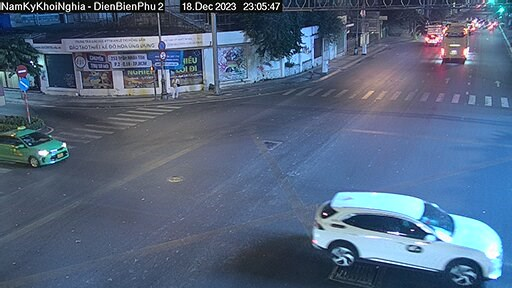bus: (437, 23, 477, 63)
car: (314, 190, 504, 282), (4, 121, 66, 166)
